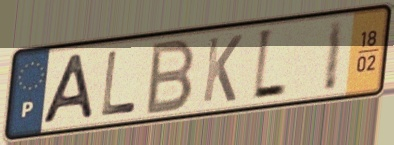A: (38, 51, 97, 127)
B: (142, 36, 199, 118)
I: (320, 16, 348, 95)
K: (200, 33, 245, 106)
L: (250, 26, 289, 105), (98, 48, 138, 118)
